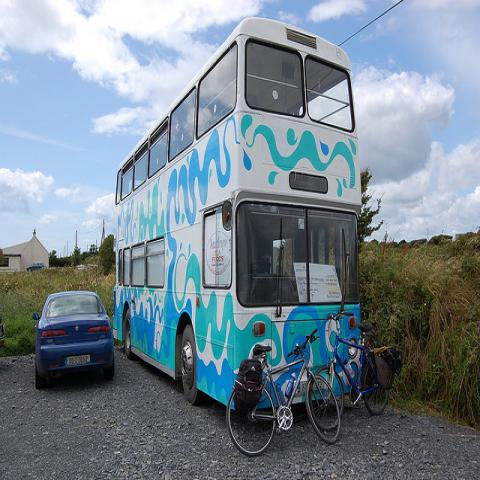bus: (114, 20, 363, 408)
car: (29, 287, 115, 391)
